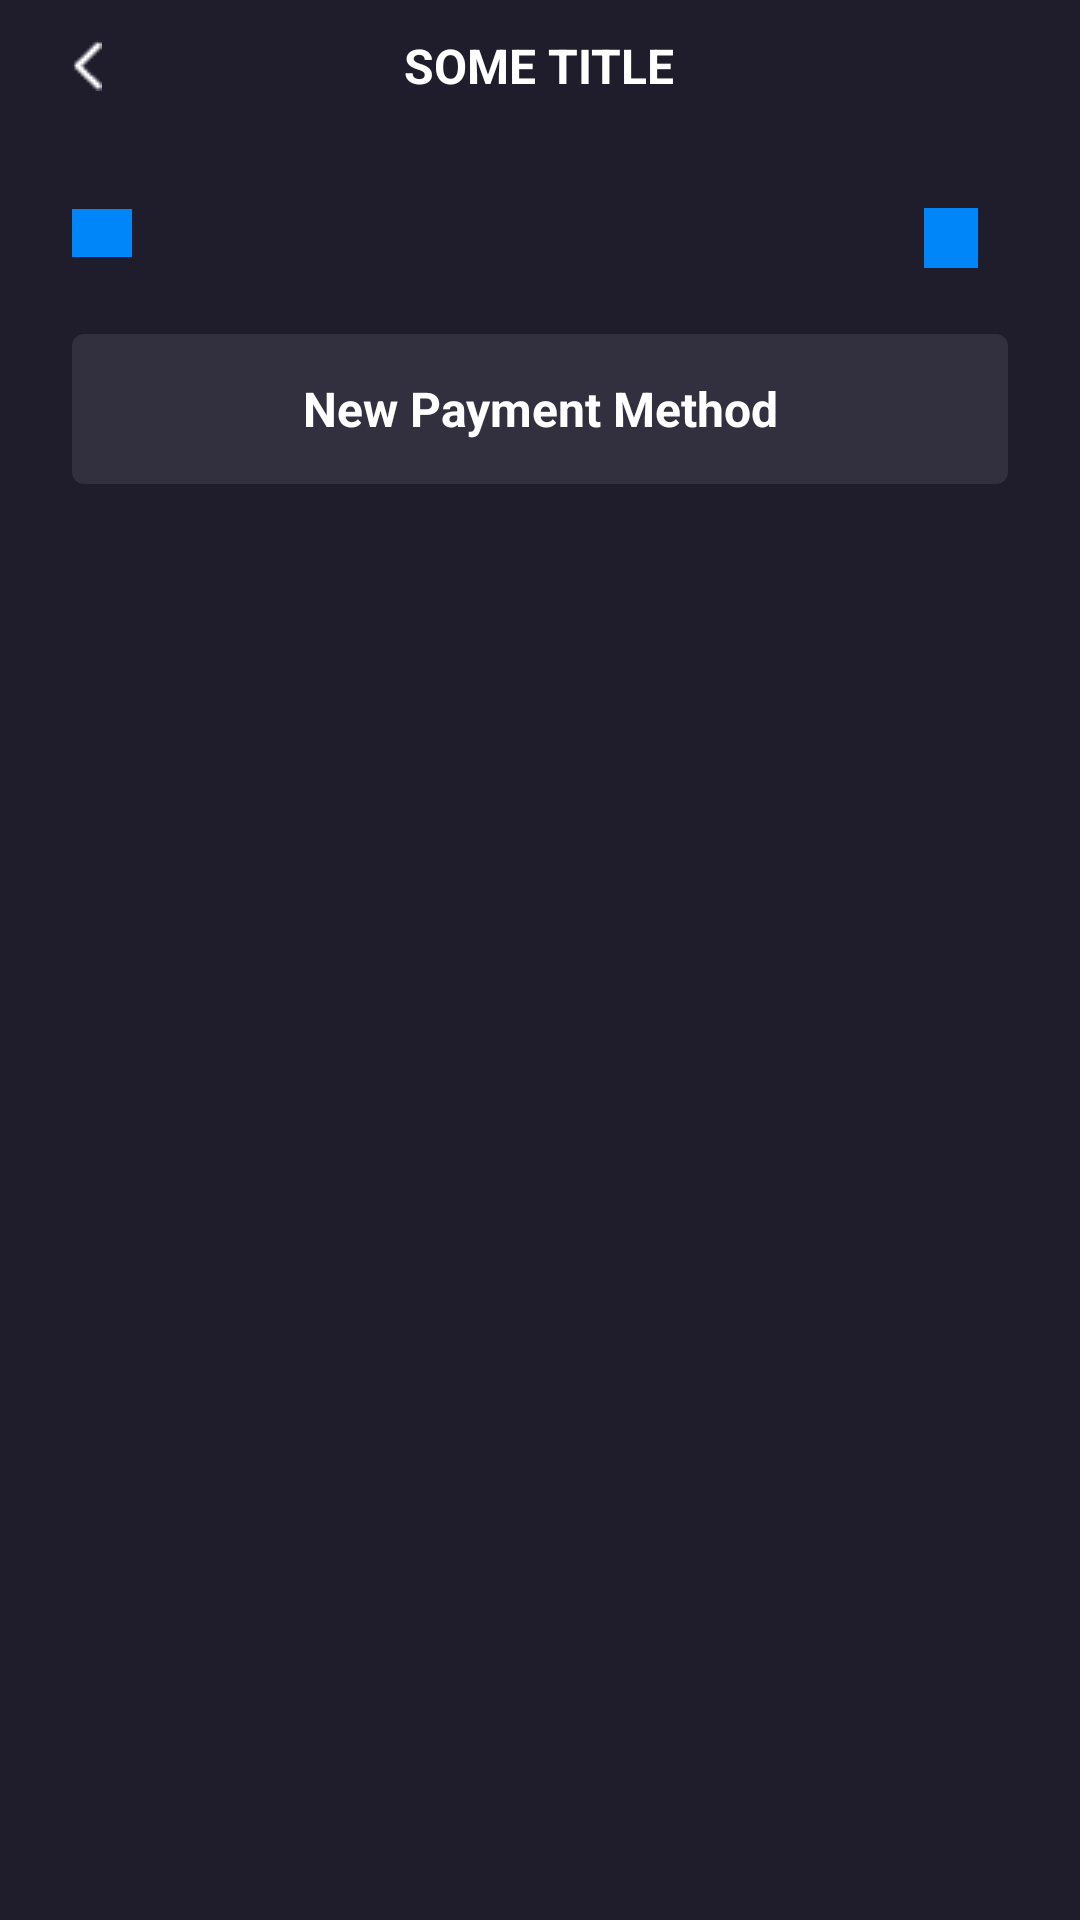

Where icons sit on this 1080w x 1920h app screen, as (x1, y1, x2, y2):
back: (74, 42, 102, 91)
